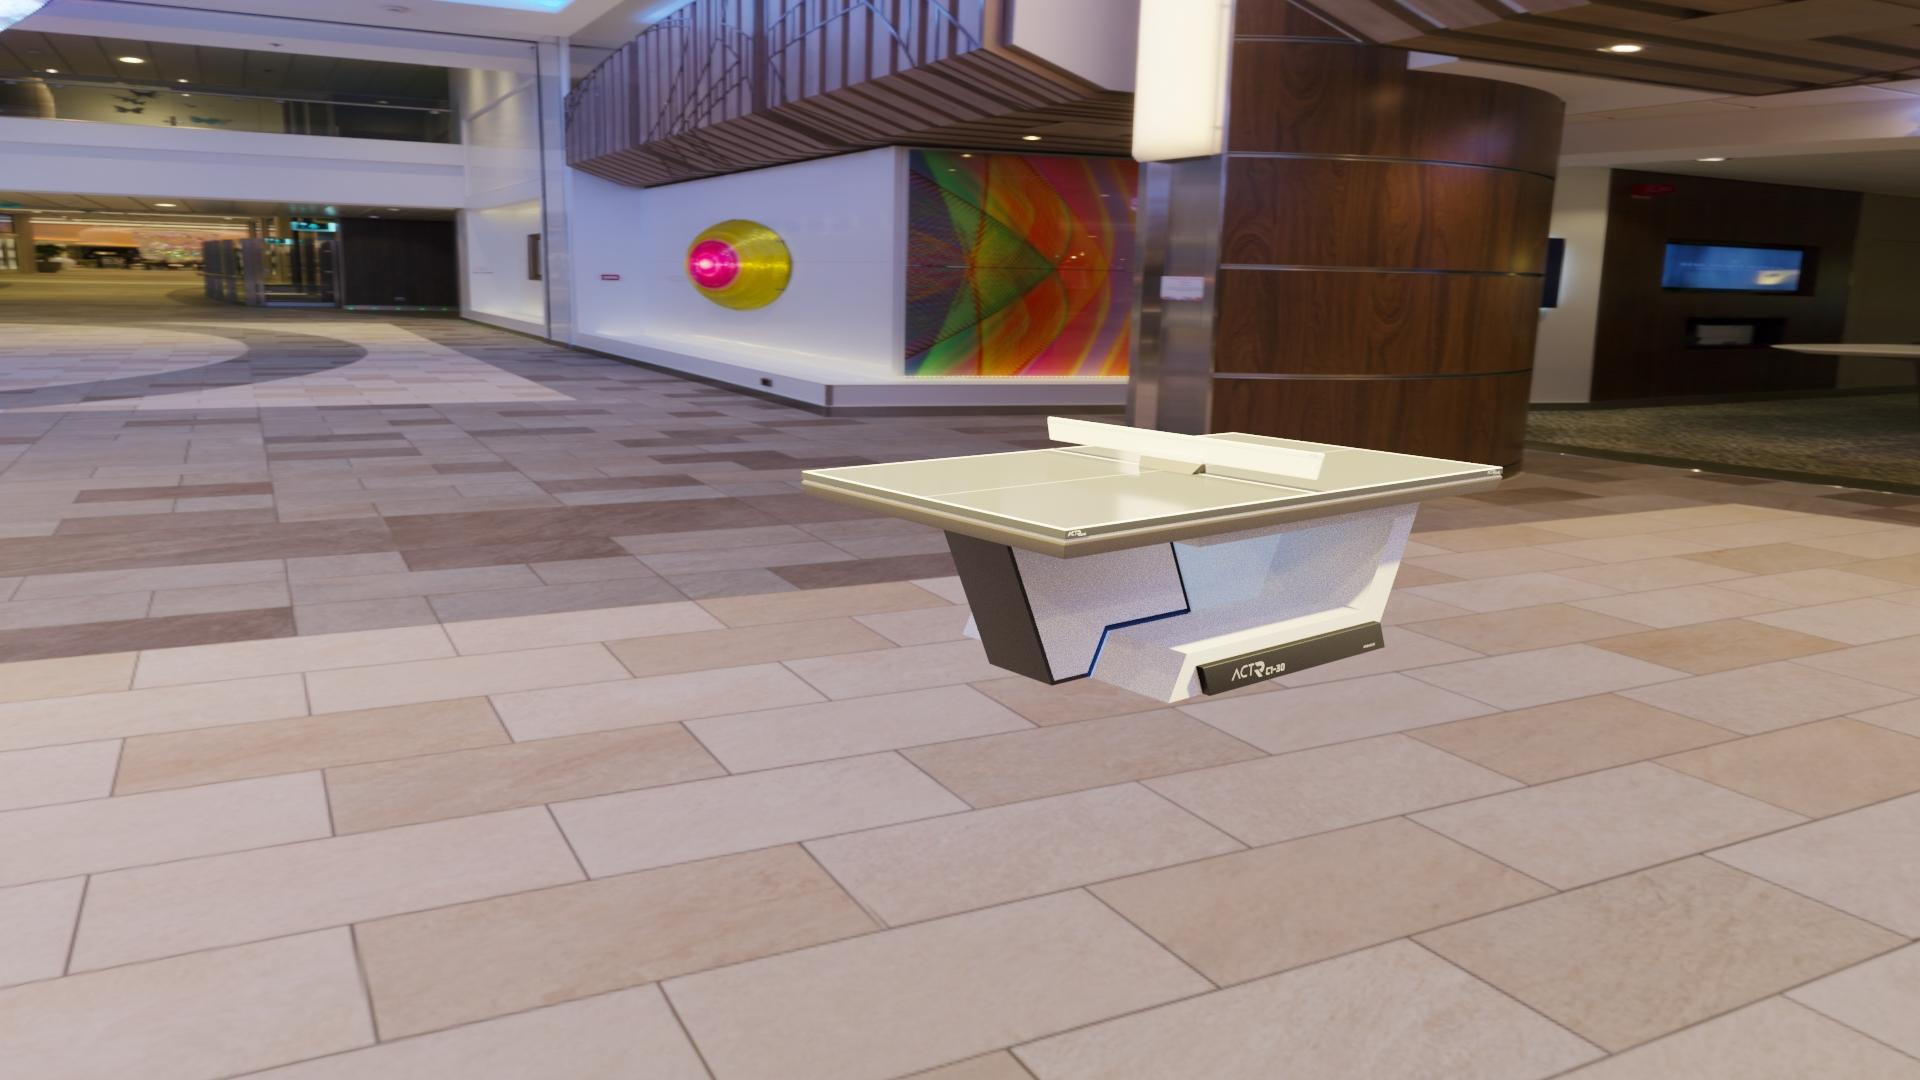table: (808, 434, 1497, 529)
